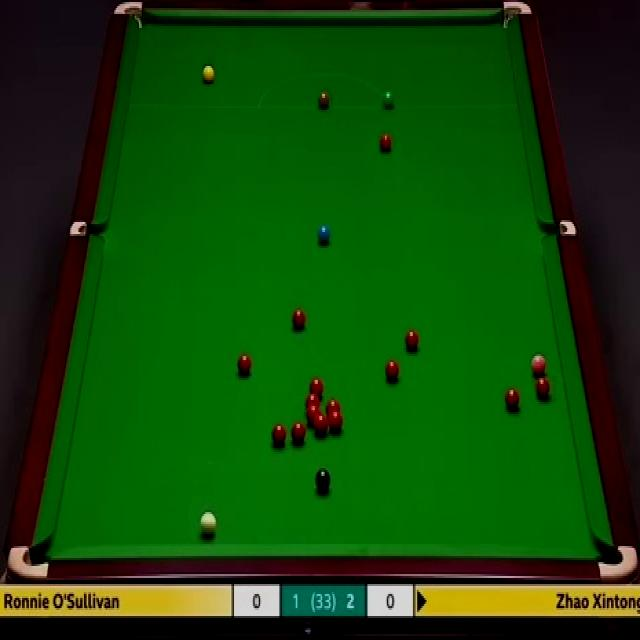black-ball: (315, 467, 331, 493)
blue-ball: (317, 224, 330, 242)
brown-ball: (317, 92, 330, 109)
green-ball: (382, 89, 395, 109)
pink-ball: (530, 354, 548, 378)
red-ball: (504, 386, 520, 410), (314, 414, 328, 439), (537, 378, 552, 401), (236, 354, 252, 375), (328, 411, 344, 432), (291, 421, 306, 443), (272, 423, 287, 445), (378, 132, 392, 154), (384, 361, 398, 382), (292, 309, 307, 328), (326, 398, 340, 416), (406, 330, 418, 350), (306, 408, 319, 426), (311, 377, 322, 398), (306, 397, 319, 413)
white-ball: (200, 509, 218, 537)
yellow-ball: (202, 64, 214, 85)
